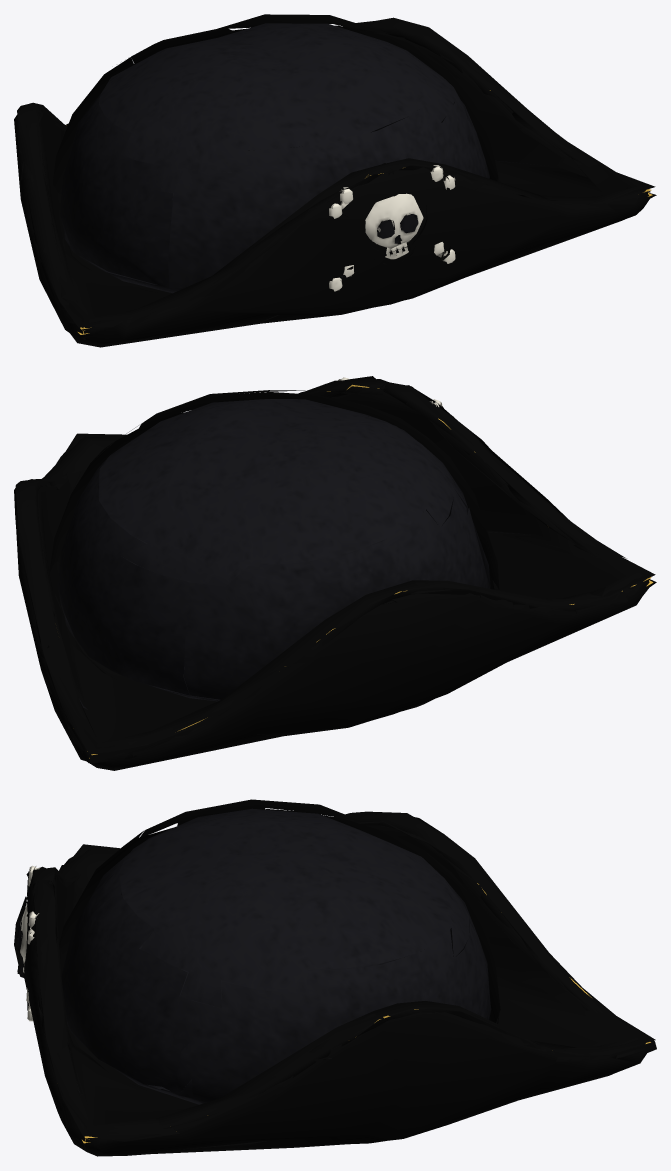
File: hat_tricorn_female_lo.glb
3 renders of one model, top to bottom at view 1: azimuth 30°, elevation 25°; view 2: azimuth 150°, elevation 25°; view 3: azimuth 270°, elevation 25°, orthographic. The views are drawn at different scales.
Parts seen in each view (by area): view 1: hat_tricorn_hi_v5_female; view 2: hat_tricorn_hi_v5_female; view 3: hat_tricorn_hi_v5_female.
Part boxes in pixels (x1=…): hat_tricorn_hi_v5_female: x1=14, y1=14, x2=656, y2=347; hat_tricorn_hi_v5_female: x1=14, y1=376, x2=656, y2=770; hat_tricorn_hi_v5_female: x1=14, y1=799, x2=656, y2=1156.
Size of the model in its own units: 0.8675 by 0.3208 by 0.8052.
Materials: 1 (1 with a texture image).
